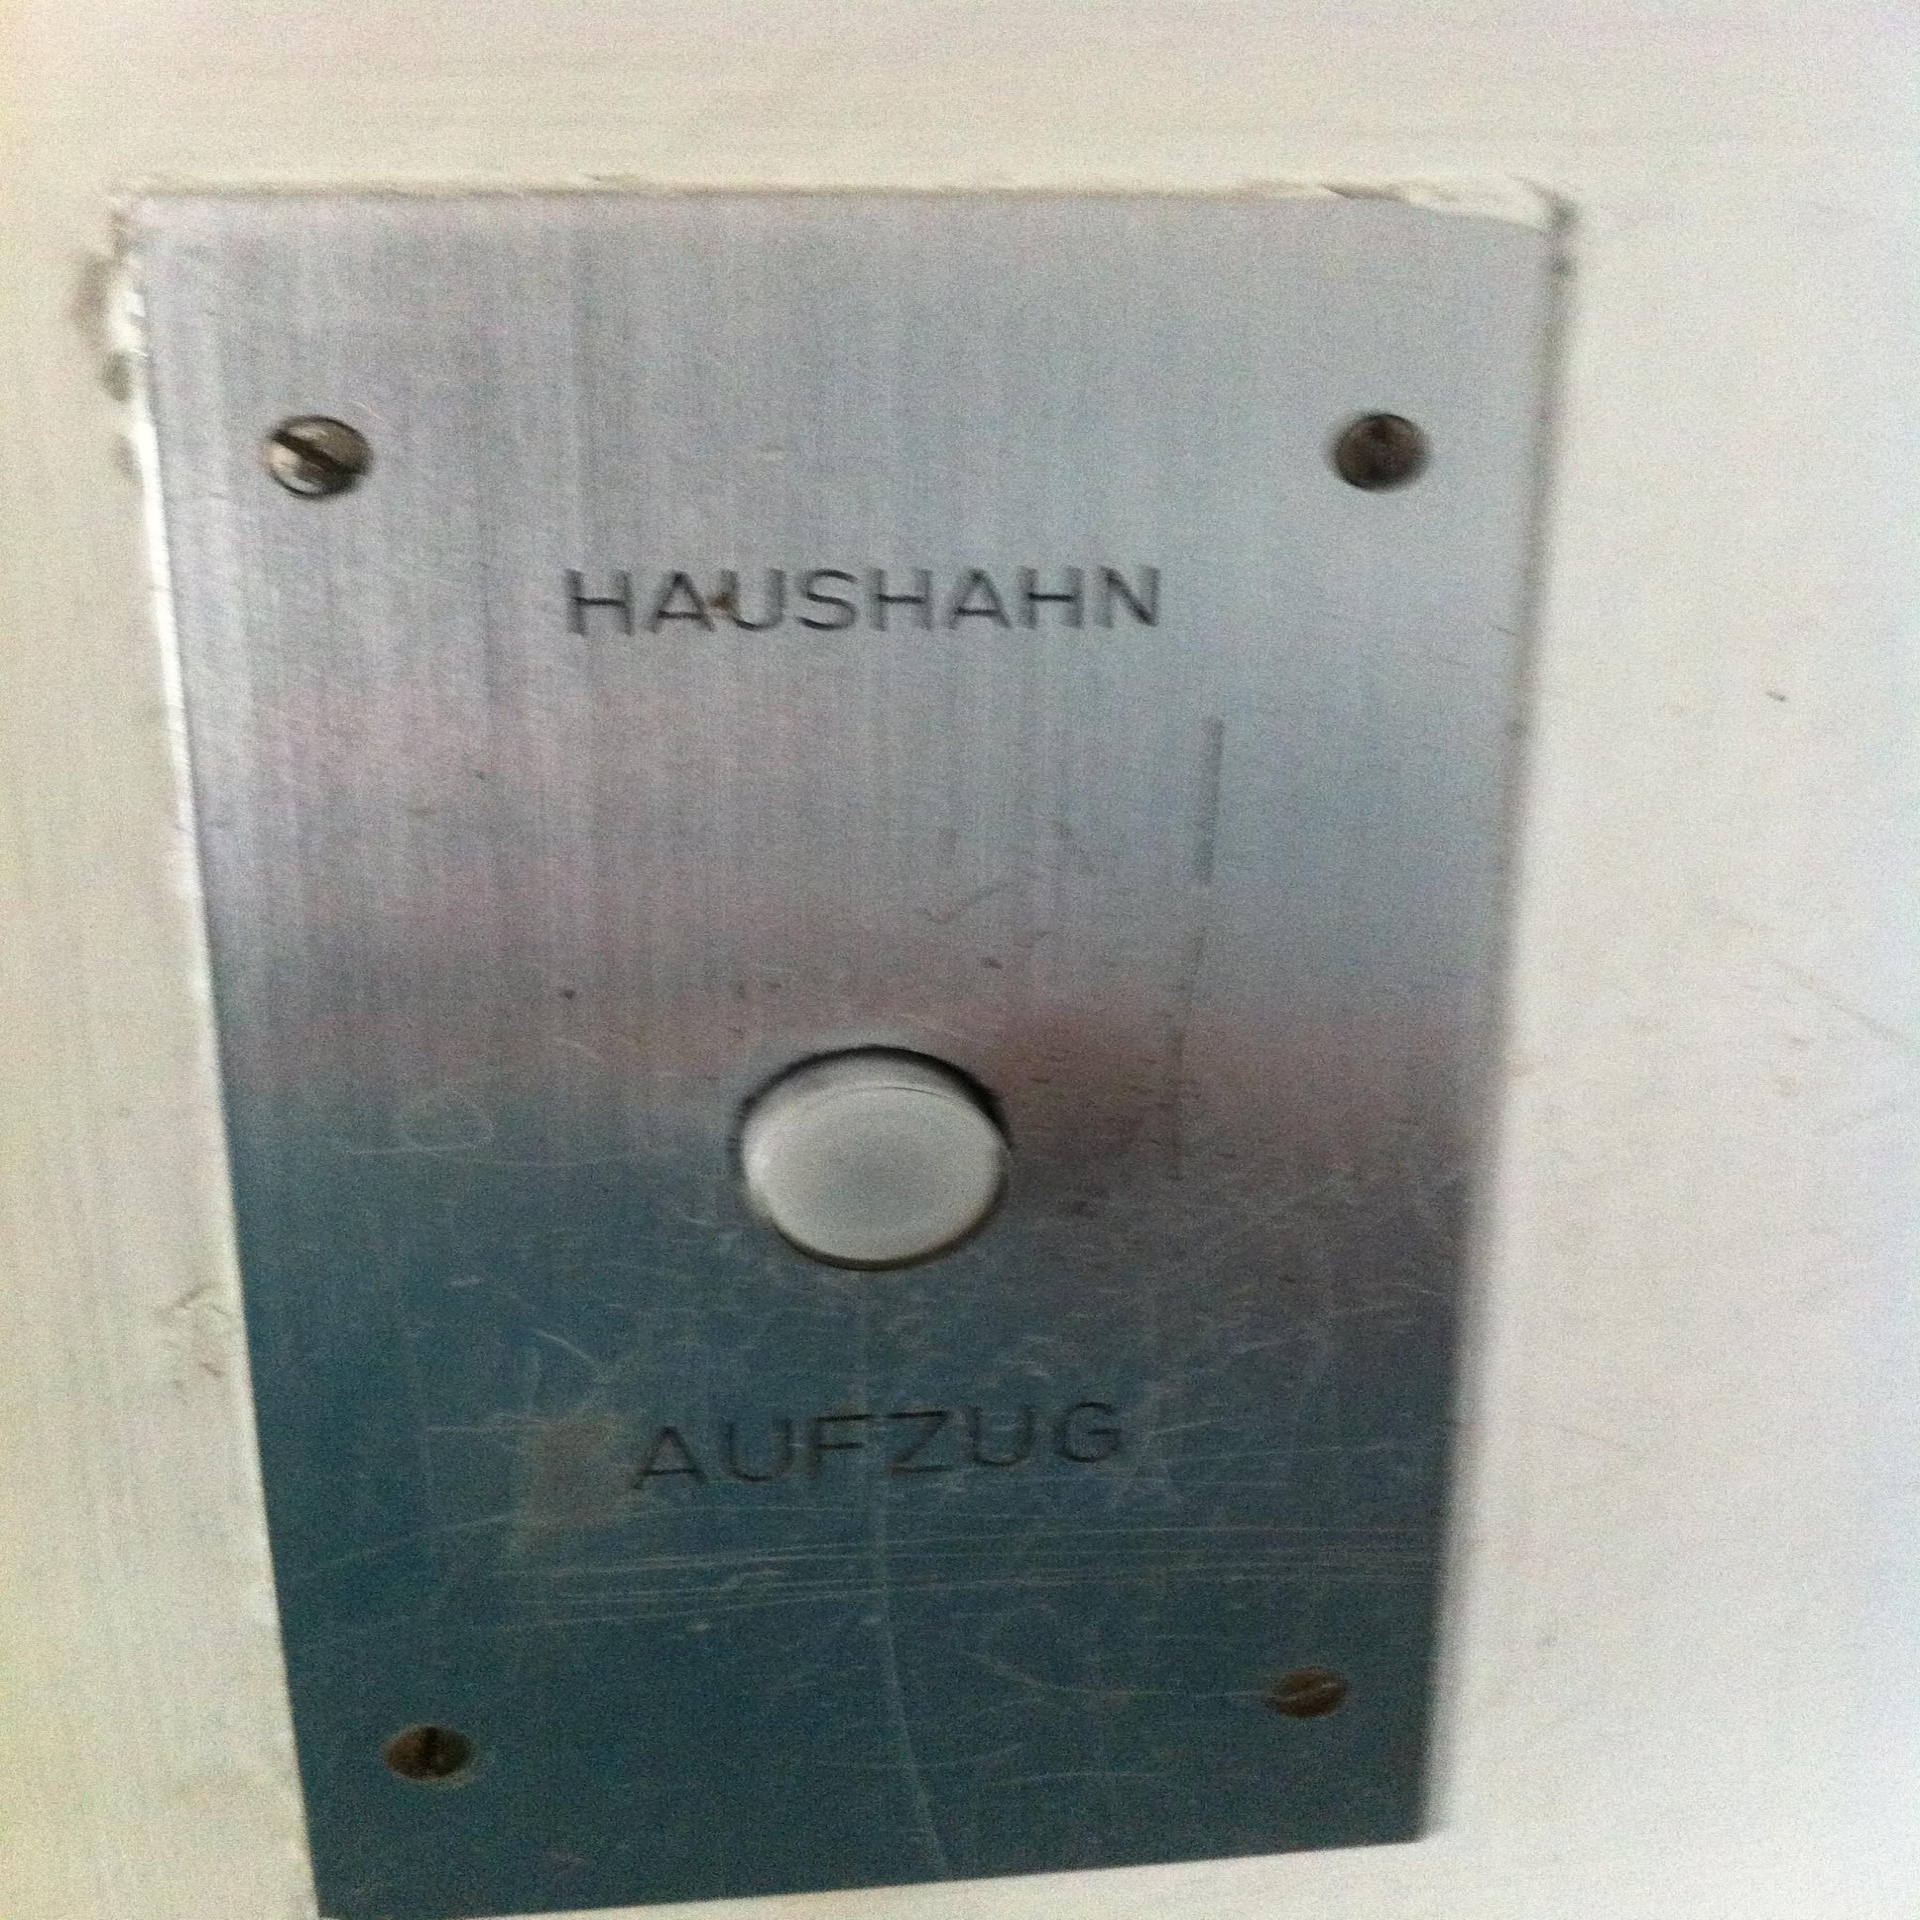empty: (726, 1037, 1018, 1280)
